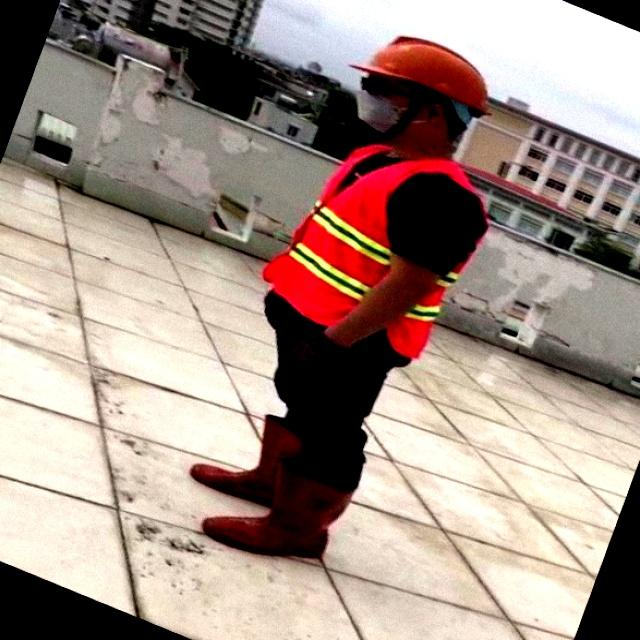helmet: (342, 28, 496, 114)
safety_vest: (261, 138, 494, 362)
